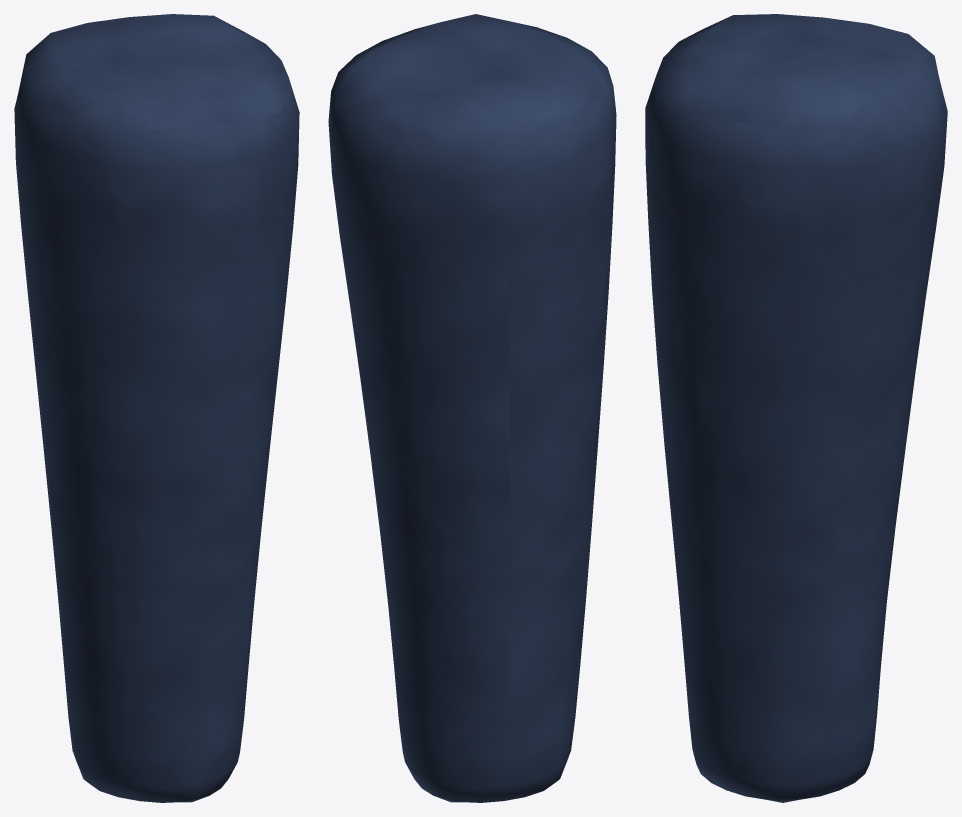
The model's file is musloizq.obj.
3 renders of one model, left to right at view 1: azimuth 30°, elevation 25°; view 2: azimuth 150°, elevation 25°; view 3: azimuth 270°, elevation 25°, orthographic.
Parts seen in each view (by area): view 1: MusloIzq; view 2: MusloIzq; view 3: MusloIzq.
Part boxes in pixels (x1,y1,x2,y2): MusloIzq: (14, 14, 299, 802); MusloIzq: (328, 14, 616, 802); MusloIzq: (645, 14, 947, 802).
Bounding box in the file's own units: 0.1057 × 0.297 × 0.1123.
1 material, 1 textured.
